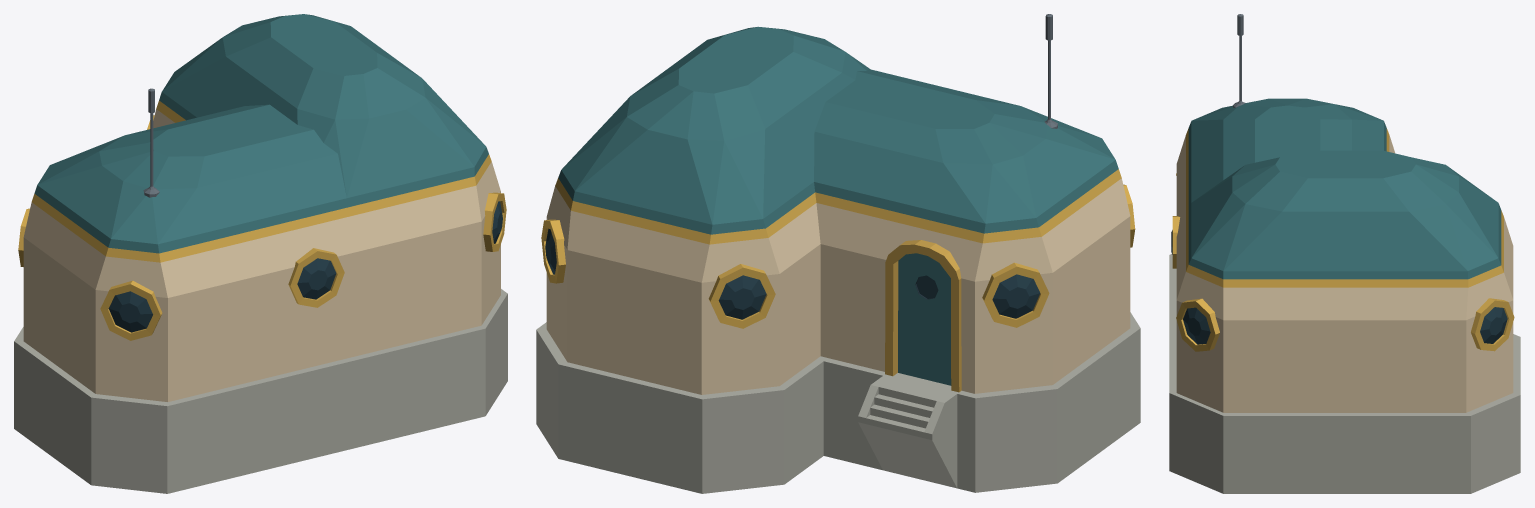
3 views of the same model, side by side, from view 1: azimuth 30°, elevation 25°; view 2: azimuth 150°, elevation 25°; view 3: azimuth 270°, elevation 25° (orthographic). The views are drawn at different scales.
Parts seen in each view (by area): view 1: house_02; view 2: house_02; view 3: house_02.
Part boxes in pixels (<box>): house_02: <box>14,14,507,493</box>; house_02: <box>536,14,1140,493</box>; house_02: <box>1169,14,1520,493</box>.
Size of the model in its own units: 7.74 by 6.53 by 6.31.
Materials: 1 (1 with a texture image).
